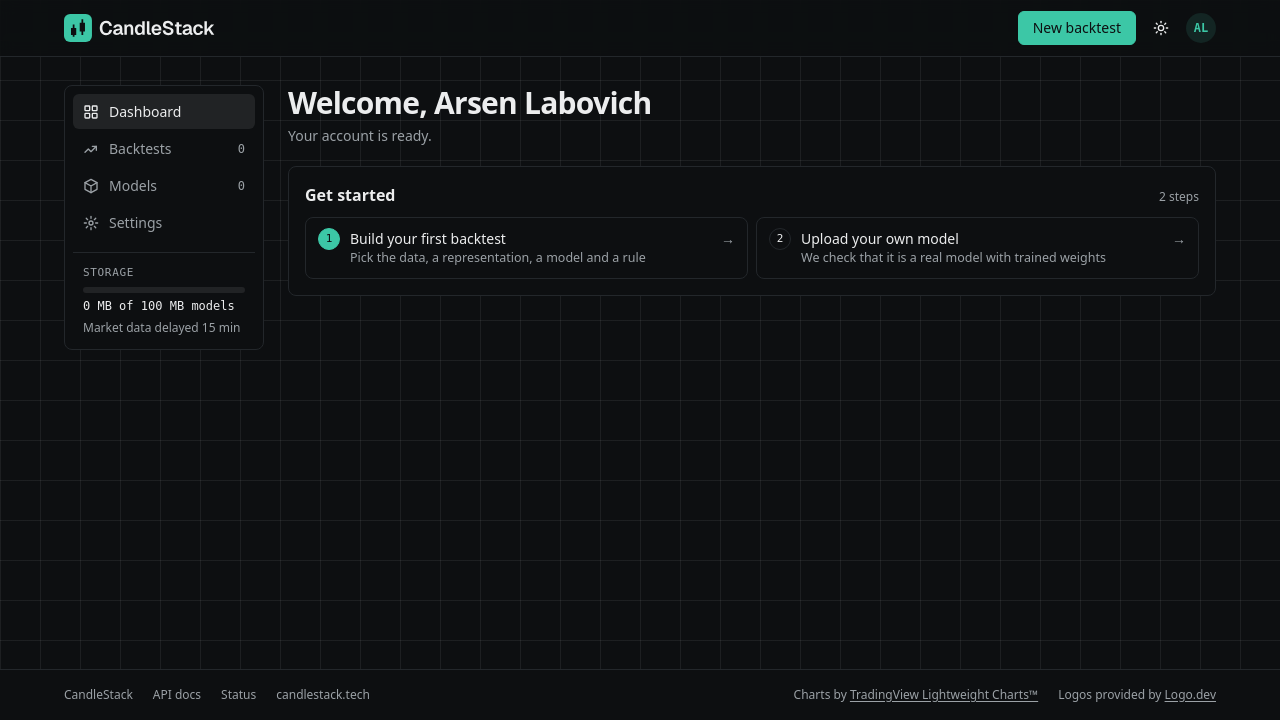
Scenario: the dashboard of a new account › opens New backtest and Upload model from the steps
Step 1. Click the button named "1Build your first backtest" → x=526, y=248, box [305,217,748,279]
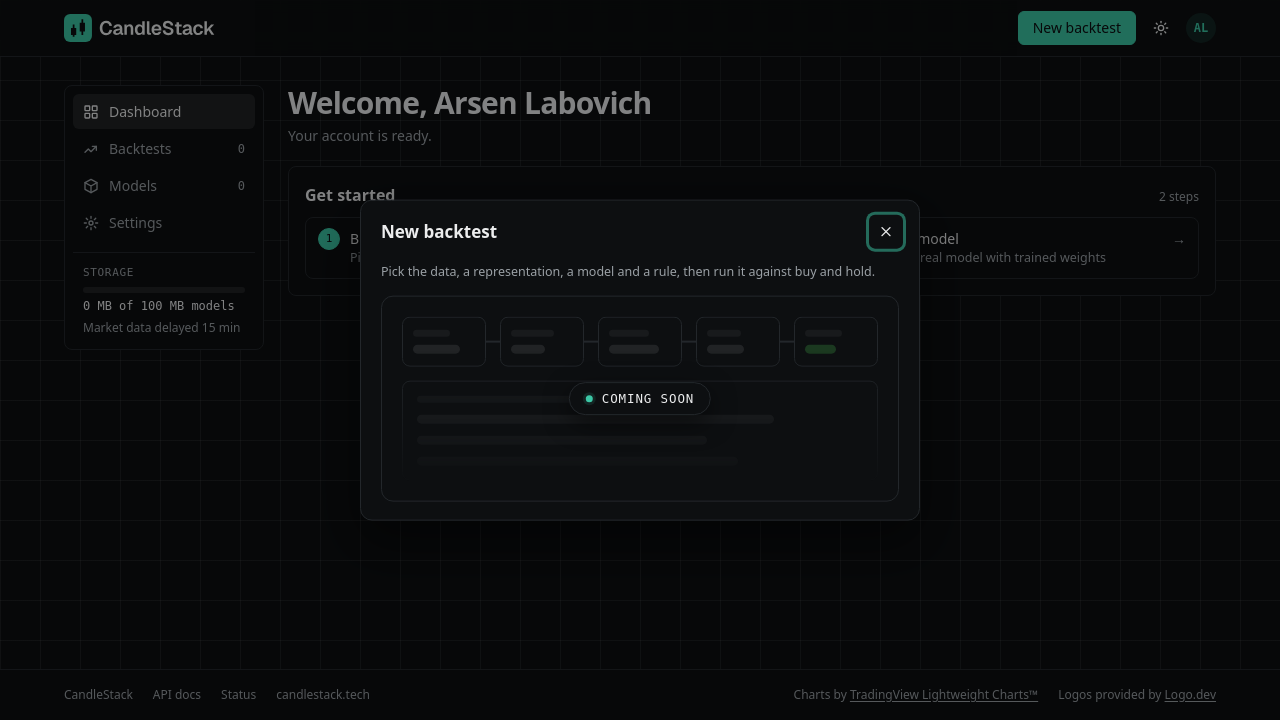
Expected: the dialog "New backtest" is shown, [360,200,920,520]
Step 2. Press Escape
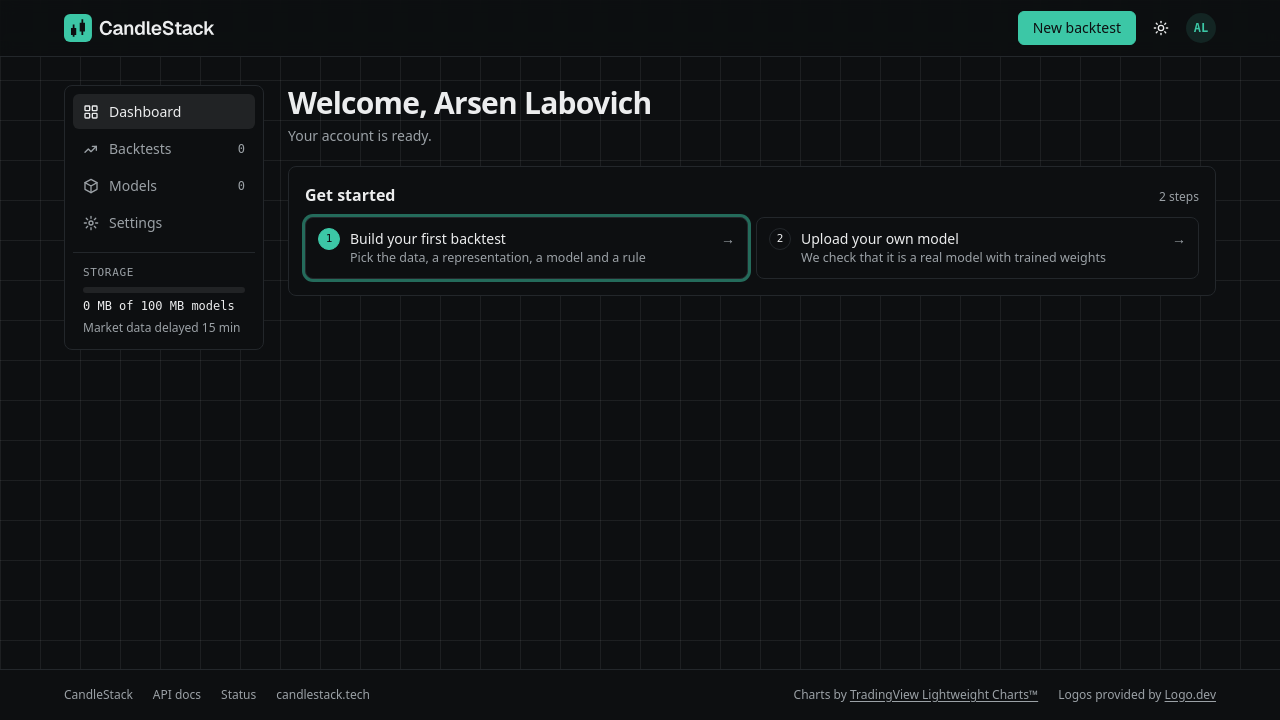
Step 3. Click the button named "2Upload your own model" → x=978, y=248, box [756,217,1199,279]
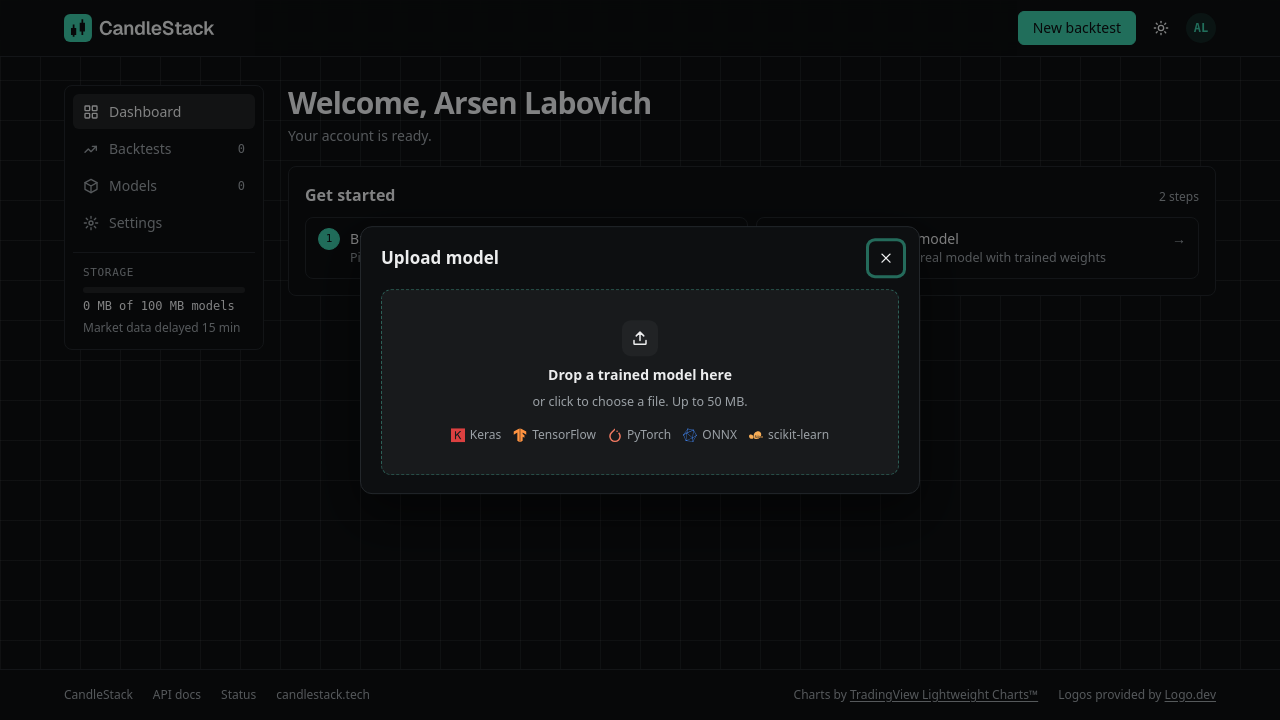
Expected: the dialog "Upload model" is shown, [360,226,920,494]
